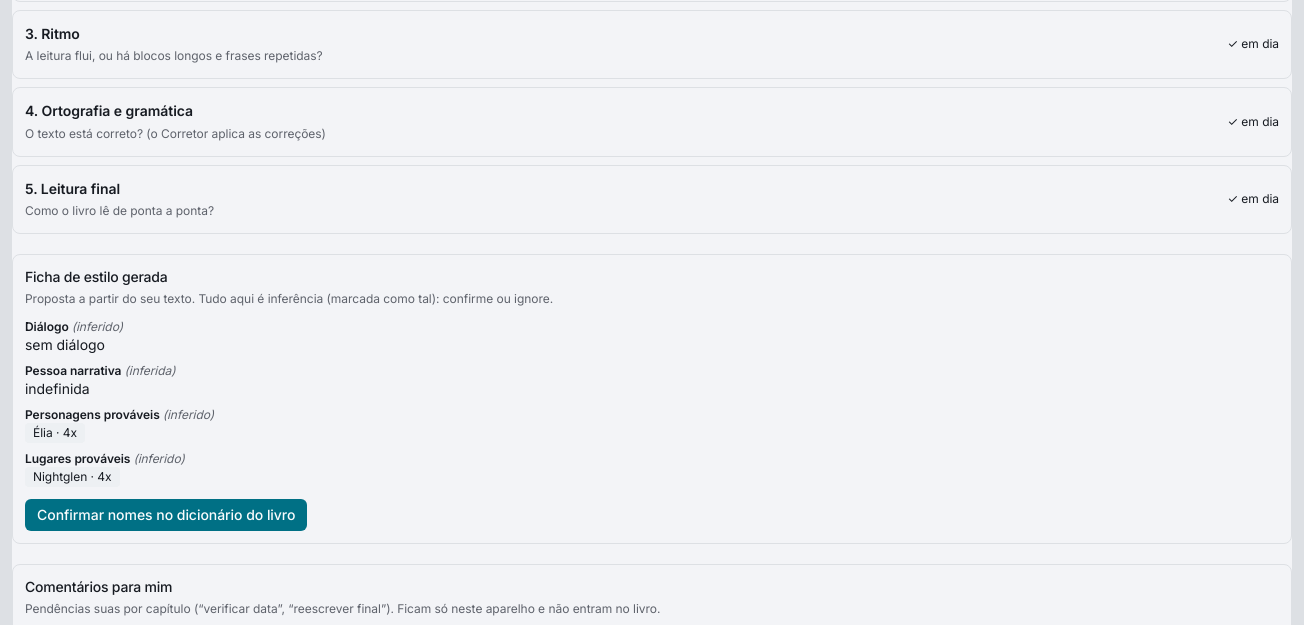
ReviewPanel › ficha de estilo confirma nomes no dicionário do Corretor sem duplicar
(page scrolled)
What coordinates should you click on to do the following:
click the button "Confirmar nomes no dicionário do livro"
I would click on:
 (166, 515)
Its box is [25, 499, 307, 531].
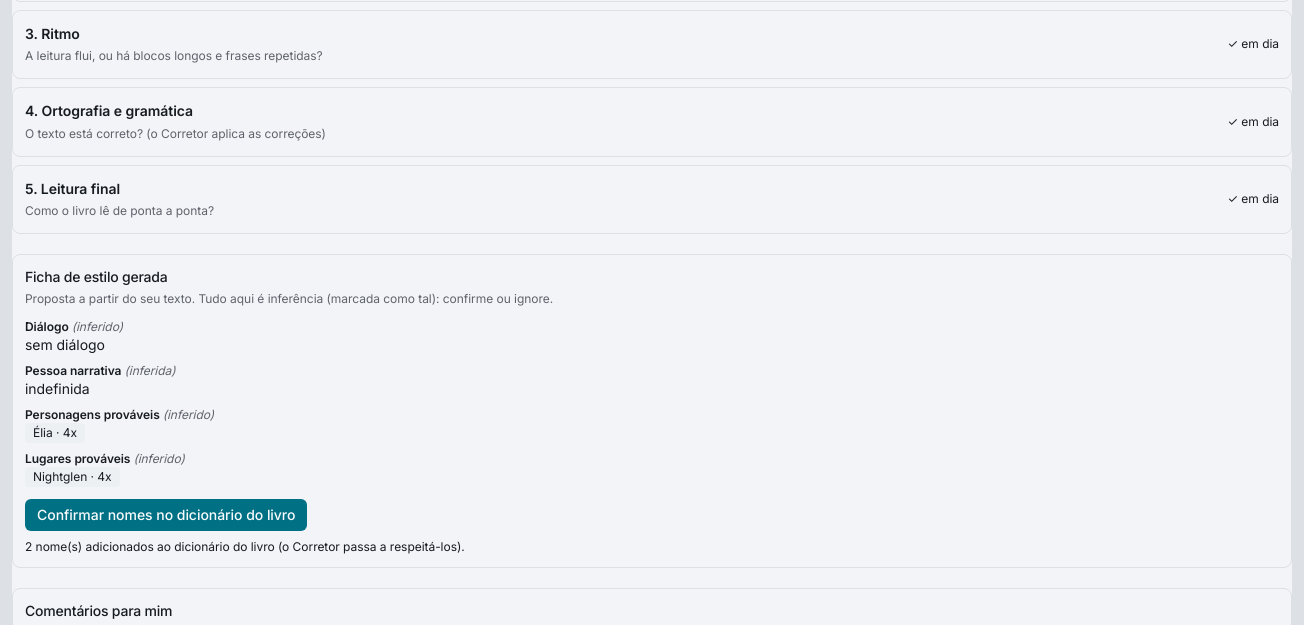
What coordinates should you click on to do the following:
click the button "Confirmar nomes no dicionário do livro"
I would click on:
 (166, 515)
Its box is [25, 499, 307, 531].
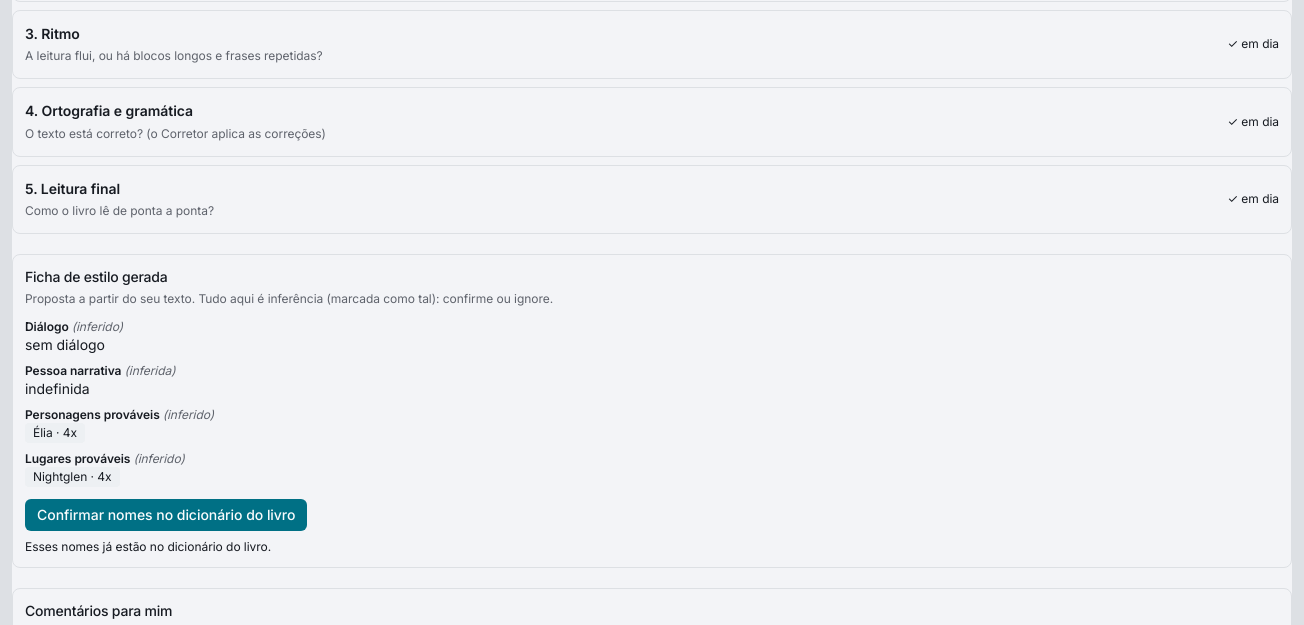
Expected: the text "Esses nomes já estão no dicionário do livro." is shown, [25, 539, 271, 554]
